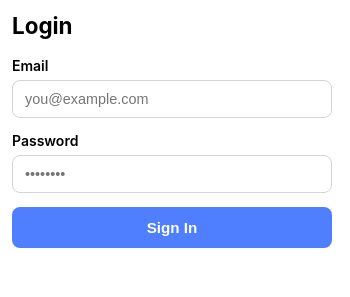
LoginForm › shows error for invalid email
The width and height of the screenshot is (350, 297).
Type "notanemail" into the field labelled "Email". click: (172, 99)
box: [12, 80, 332, 118]
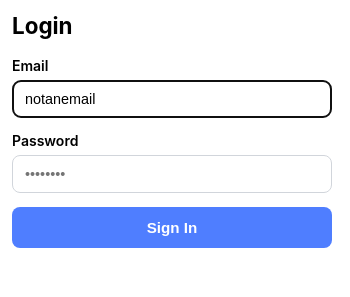
Type "password123" into the password field labelled "Password". click: (172, 174)
box: [12, 155, 332, 193]
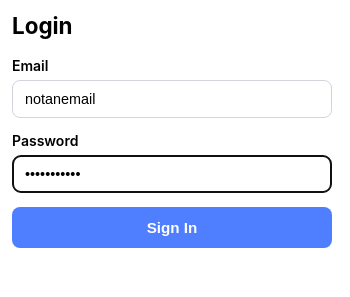
Click the button "Sign In". click: (172, 228)
box: [12, 207, 332, 248]
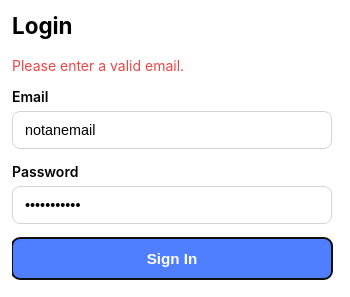
Expected: the message shows "valid email", [12, 57, 184, 74]
